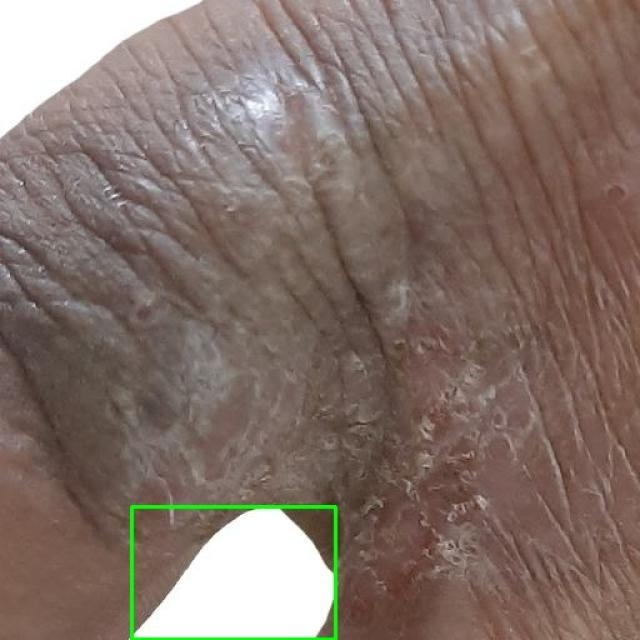Eczema: (131, 506, 335, 639)
